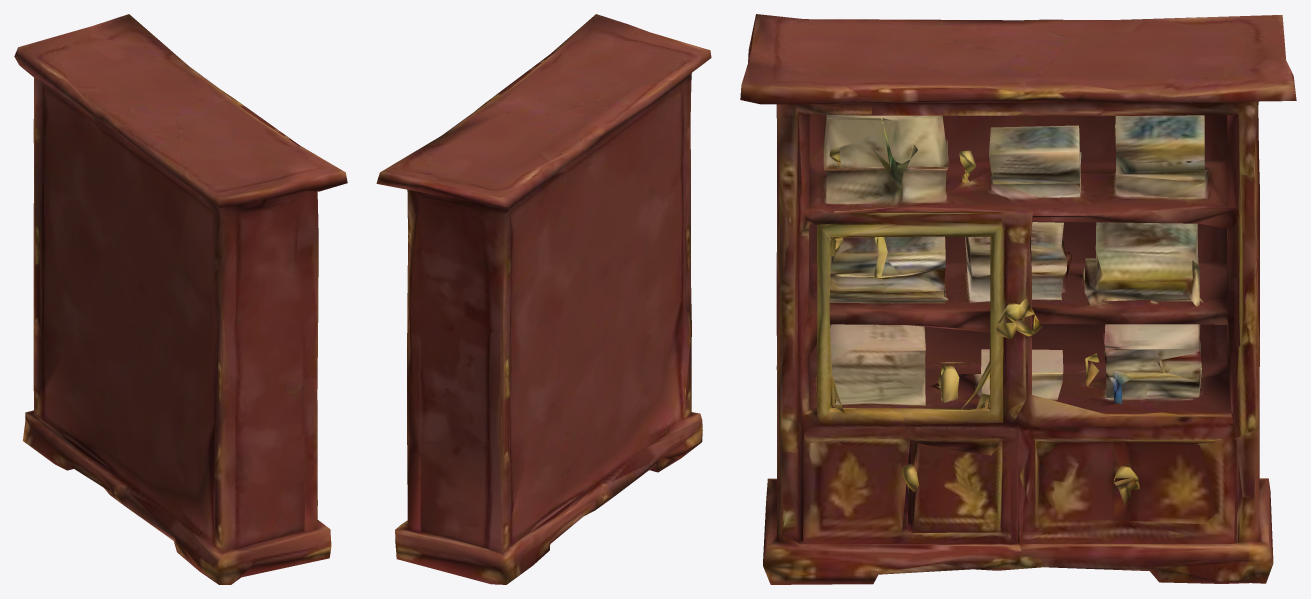
The model's file is bookshelf.glb.
3 renders of one model, left to right at view 1: azimuth 30°, elevation 25°; view 2: azimuth 150°, elevation 25°; view 3: azimuth 270°, elevation 25°, orthographic. The views are drawn at different scales.
Parts seen in each view (by area): view 1: tripo_node_8e673071-56fd-4551-97b9-d9a4a3e8d154; view 2: tripo_node_8e673071-56fd-4551-97b9-d9a4a3e8d154; view 3: tripo_node_8e673071-56fd-4551-97b9-d9a4a3e8d154.
Boxes of the visible parts, left/top/right/bottom form: tripo_node_8e673071-56fd-4551-97b9-d9a4a3e8d154: left=14, top=14, right=347, bottom=584; tripo_node_8e673071-56fd-4551-97b9-d9a4a3e8d154: left=376, top=14, right=711, bottom=584; tripo_node_8e673071-56fd-4551-97b9-d9a4a3e8d154: left=740, top=14, right=1296, bottom=584.
Bounding box in the file's own units: 0.3921 × 1.2 × 1.2.
1 material, 1 textured.
